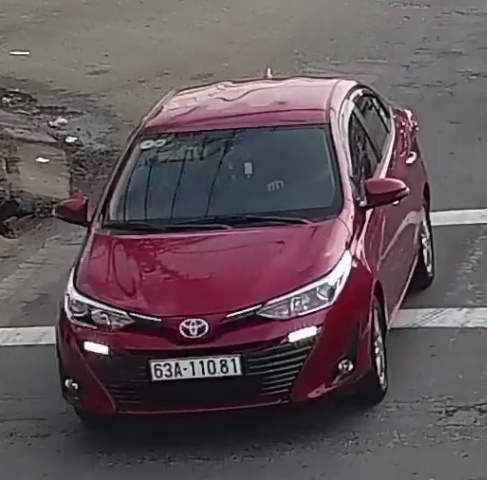vehicle plate: (145, 353, 248, 380)
